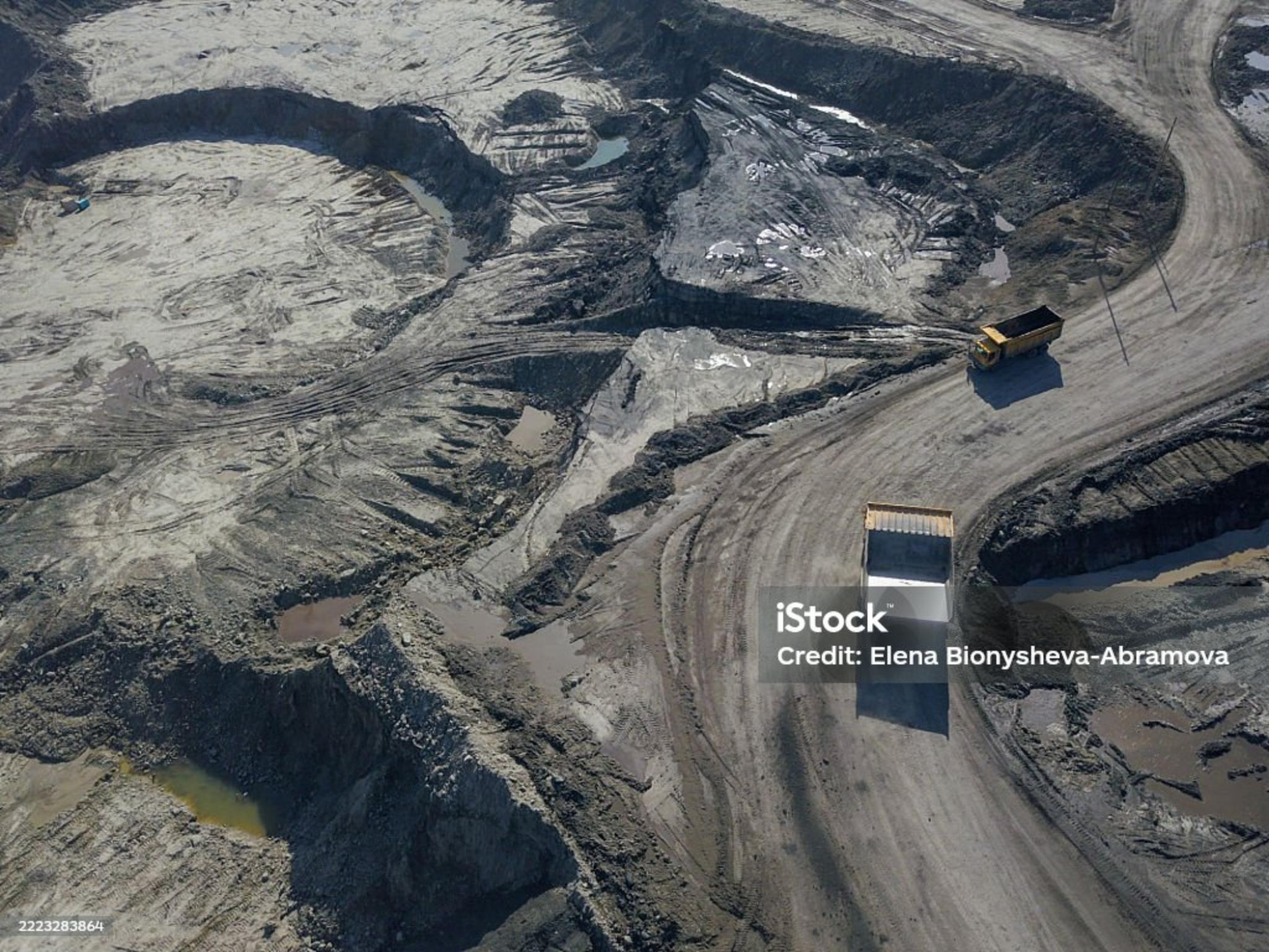benches: (589, 0, 1268, 948)
truck: (867, 500, 973, 700), (965, 291, 1062, 378)
